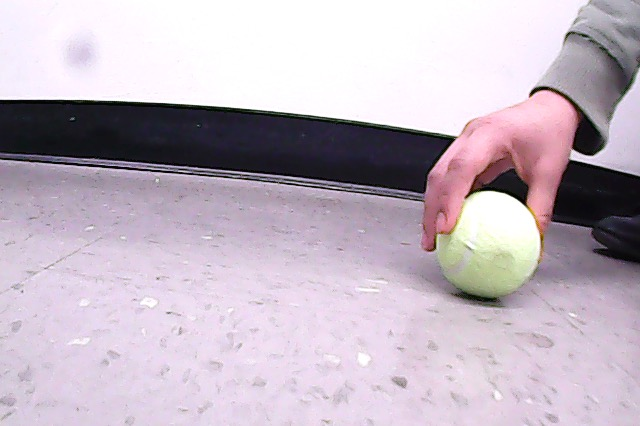ball: (436, 190, 540, 298)
